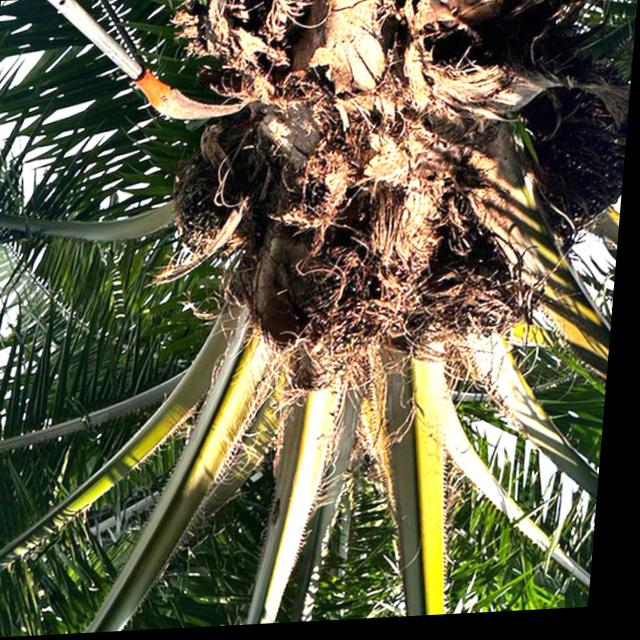ripe: (163, 146, 245, 257)
